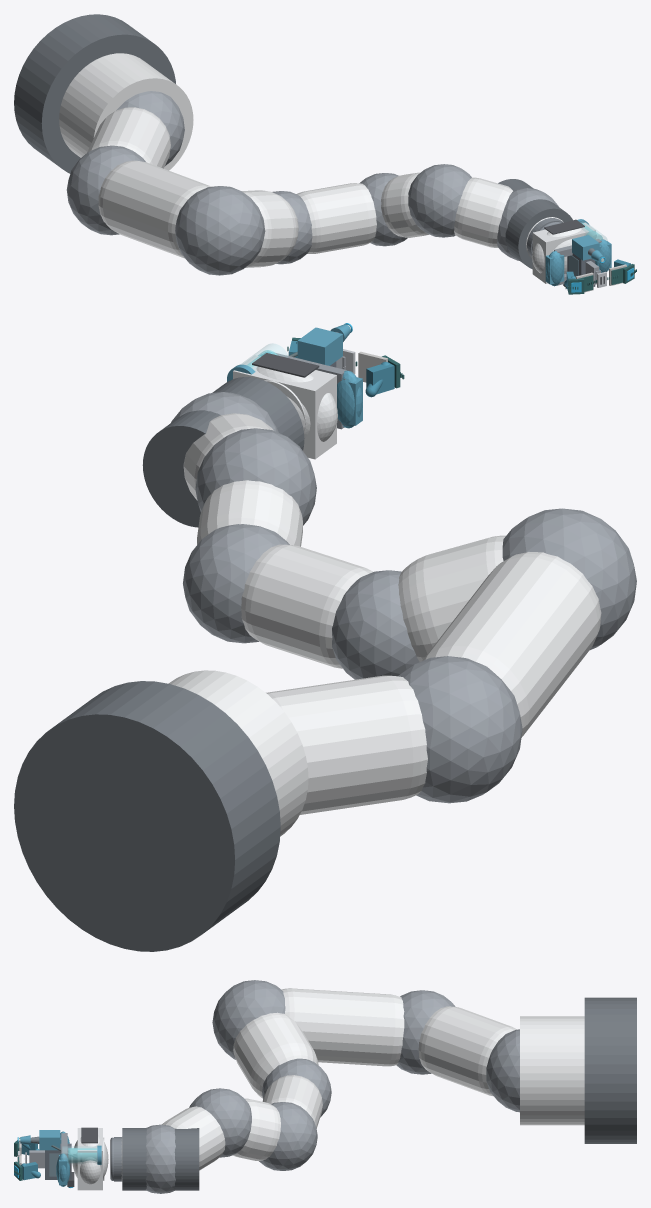
Rendered from dranmar_franka_closure_assembly.glb.
3 renders of one model, top to bottom at view 1: azimuth 30°, elevation 25°; view 2: azimuth 150°, elevation 25°; view 3: azimuth 270°, elevation 25°, orthographic. The views are drawn at different scales.
Parts seen in each view (by area): view 1: franka_proxy_base, franka_proxy_pedestal, franka_proxy_joint_03, franka_proxy_link_02, franka_proxy_link_04, franka_proxy_joint_06, franka_proxy_joint_02, franka_proxy_link_01, franka_proxy_link_06, franka_proxy_link_03, panda_link8_inspection_proxy, franka_proxy_link_05 (+8 smaller); view 2: franka_proxy_base, franka_proxy_link_02, franka_proxy_link_01, franka_proxy_joint_02, franka_proxy_link_04, franka_proxy_joint_03, franka_proxy_pedestal, franka_proxy_joint_05, franka_proxy_link_03, panda_link8_inspection_proxy, franka_proxy_joint_04, franka_proxy_joint_06 (+8 smaller); view 3: franka_proxy_base, franka_proxy_link_02, franka_proxy_pedestal, franka_proxy_link_01, franka_proxy_link_03, panda_link8_inspection_proxy, franka_proxy_joint_03, franka_proxy_joint_05, franka_proxy_joint_06, franka_proxy_joint_02, franka_proxy_joint_01, franka_proxy_joint_07 (+11 smaller).
Part boxes in pixels (bbox=[...]): franka_proxy_base: bbox=[14, 14, 175, 173]; franka_proxy_pedestal: bbox=[59, 53, 193, 170]; franka_proxy_joint_03: bbox=[175, 186, 265, 275]; franka_proxy_link_02: bbox=[98, 160, 211, 258]; franka_proxy_link_04: bbox=[296, 183, 376, 253]; franka_proxy_joint_06: bbox=[408, 164, 471, 237]; franka_proxy_joint_02: bbox=[66, 145, 145, 235]; franka_proxy_link_01: bbox=[87, 107, 170, 168]; franka_proxy_link_06: bbox=[454, 177, 512, 247]; franka_proxy_link_03: bbox=[241, 190, 298, 267]; panda_link8_inspection_proxy: bbox=[498, 179, 572, 269]; franka_proxy_link_05: bbox=[381, 172, 428, 237]; franka_proxy_base: bbox=[14, 681, 280, 951]; franka_proxy_link_02: bbox=[422, 552, 601, 737]; franka_proxy_link_01: bbox=[266, 675, 427, 814]; franka_proxy_joint_02: bbox=[398, 656, 522, 803]; franka_proxy_link_04: bbox=[241, 544, 372, 668]; franka_proxy_joint_03: bbox=[502, 508, 636, 649]; franka_proxy_pedestal: bbox=[169, 670, 308, 836]; franka_proxy_joint_05: bbox=[183, 524, 289, 643]; franka_proxy_link_03: bbox=[398, 535, 505, 661]; panda_link8_inspection_proxy: bbox=[142, 377, 304, 527]; franka_proxy_joint_04: bbox=[332, 570, 419, 679]; franka_proxy_joint_06: bbox=[195, 428, 316, 525]; franka_proxy_base: bbox=[584, 997, 636, 1143]; franka_proxy_link_02: bbox=[281, 988, 404, 1066]; franka_proxy_pedestal: bbox=[520, 1016, 584, 1125]; franka_proxy_link_01: bbox=[418, 1006, 516, 1096]; franka_proxy_link_03: bbox=[233, 1012, 318, 1098]; panda_link8_inspection_proxy: bbox=[122, 1128, 199, 1190]; franka_proxy_joint_03: bbox=[212, 980, 285, 1059]; franka_proxy_joint_05: bbox=[259, 1102, 317, 1170]; franka_proxy_joint_06: bbox=[189, 1088, 251, 1157]; franka_proxy_joint_02: bbox=[396, 990, 455, 1074]; franka_proxy_joint_01: bbox=[486, 1029, 519, 1112]; franka_proxy_joint_07: bbox=[145, 1124, 175, 1193].
Size of the model in its own units: 0.5466 by 0.21 by 0.893.
